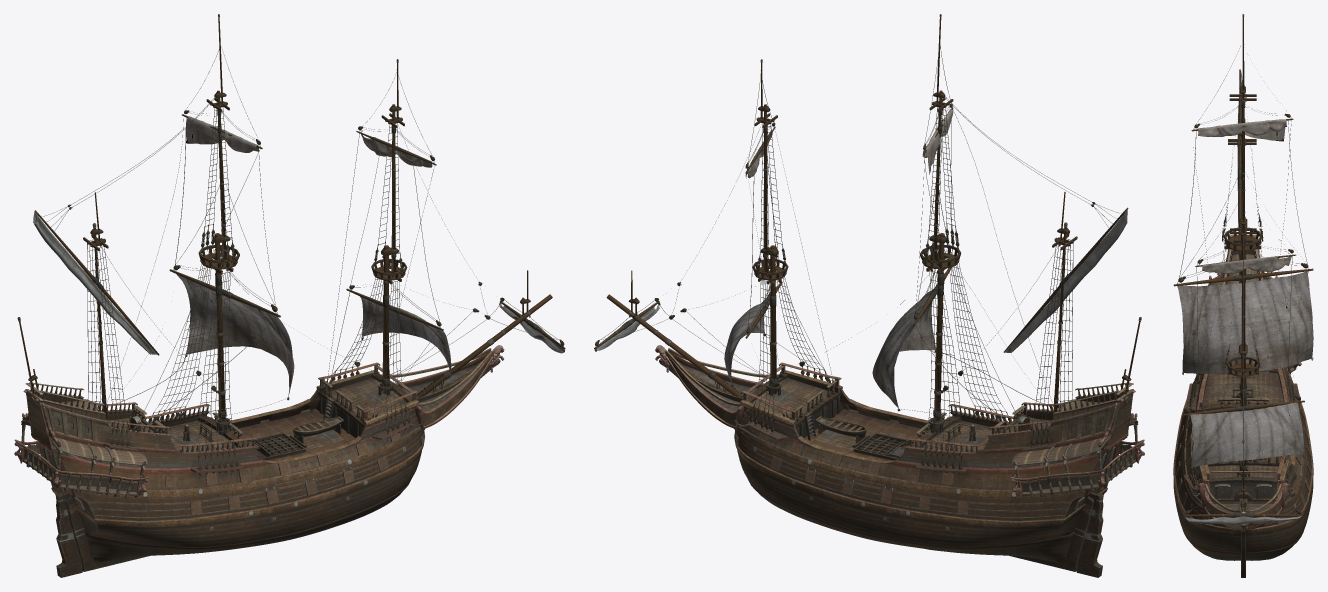
File: ship-desktop.glb
3 renders of one model, left to right at view 1: azimuth 30°, elevation 25°; view 2: azimuth 150°, elevation 25°; view 3: azimuth 270°, elevation 25°, orthographic. The views are drawn at different scales.
Visible parts, largest first — view 1: dutch_ship_large_01_hull, dutch_ship_large_01_rigging, dutch_ship_large_01_sails; view 2: dutch_ship_large_01_hull, dutch_ship_large_01_rigging, dutch_ship_large_01_sails; view 3: dutch_ship_large_01_sails, dutch_ship_large_01_hull, dutch_ship_large_01_rigging.
Boxes of the visible parts, left/top/right/bottom form: dutch_ship_large_01_hull: left=14, top=345, right=504, bottom=577; dutch_ship_large_01_rigging: left=17, top=14, right=565, bottom=482; dutch_ship_large_01_sails: left=176, top=116, right=451, bottom=396; dutch_ship_large_01_hull: left=655, top=345, right=1144, bottom=577; dutch_ship_large_01_rigging: left=594, top=14, right=1141, bottom=479; dutch_ship_large_01_sails: left=724, top=109, right=953, bottom=408; dutch_ship_large_01_sails: left=1178, top=119, right=1313, bottom=467; dutch_ship_large_01_hull: left=1173, top=235, right=1313, bottom=577; dutch_ship_large_01_rigging: left=1173, top=14, right=1313, bottom=524.
Size of the model in its own units: 34.25 by 32.08 by 8.39.
3 materials, 3 textured.
